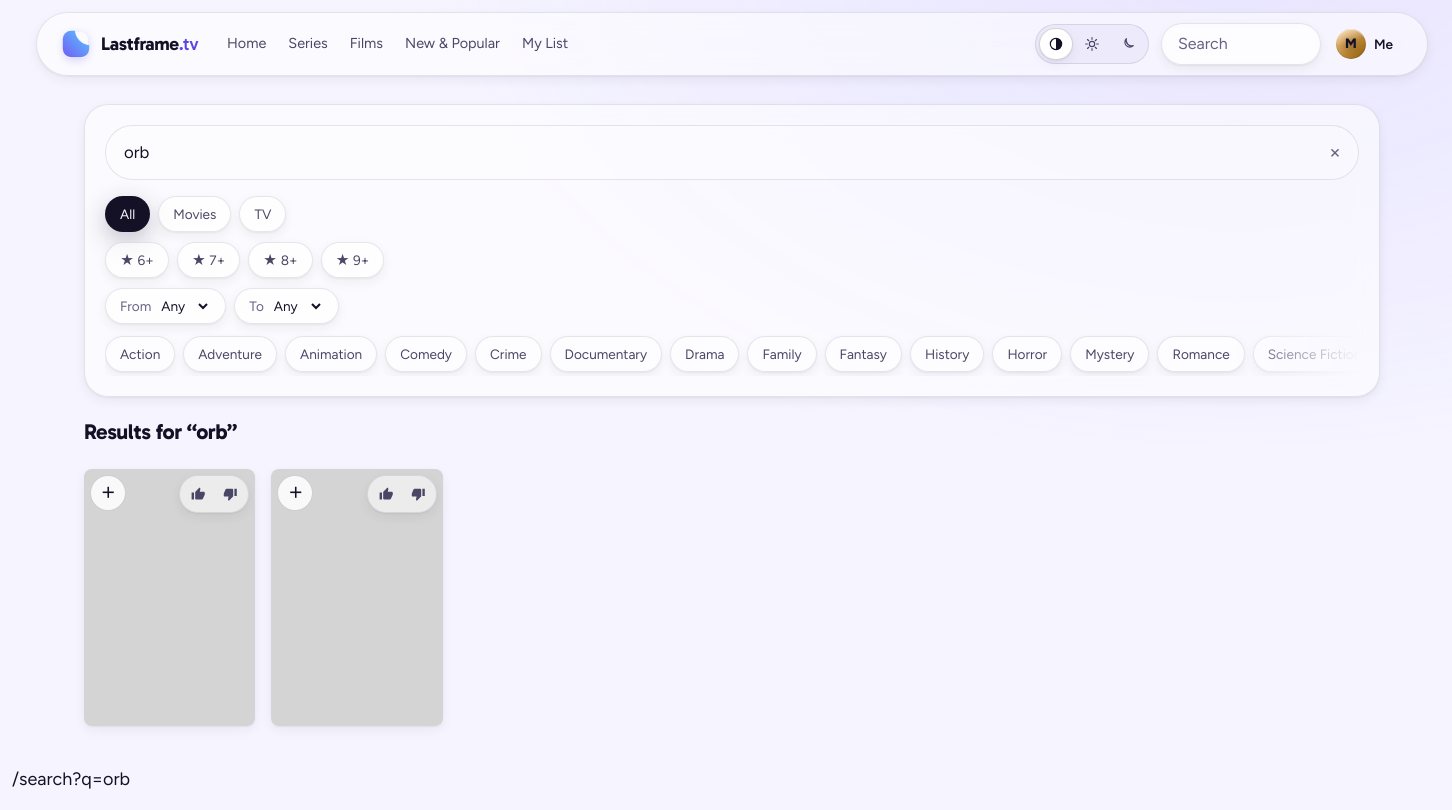
Test: SearchPage › applies the type chip filter
The width and height of the screenshot is (1452, 810).
Click the button "TV" at (263, 214), box [239,196,286,232]
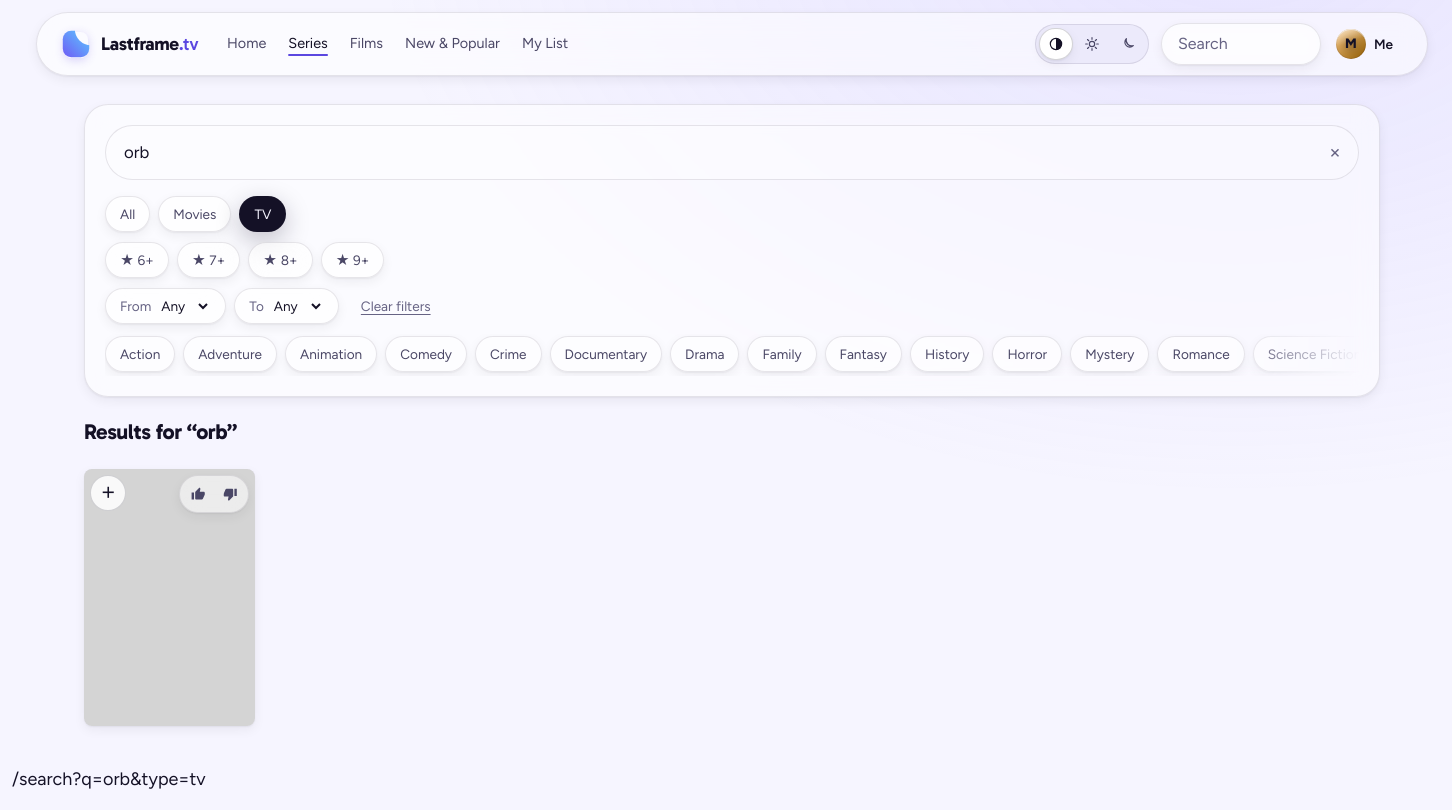
Expected: the link "Silent Orbit" is not shown
Now the text with test id "location" shows "type=tv", box [12,768,206,790]
